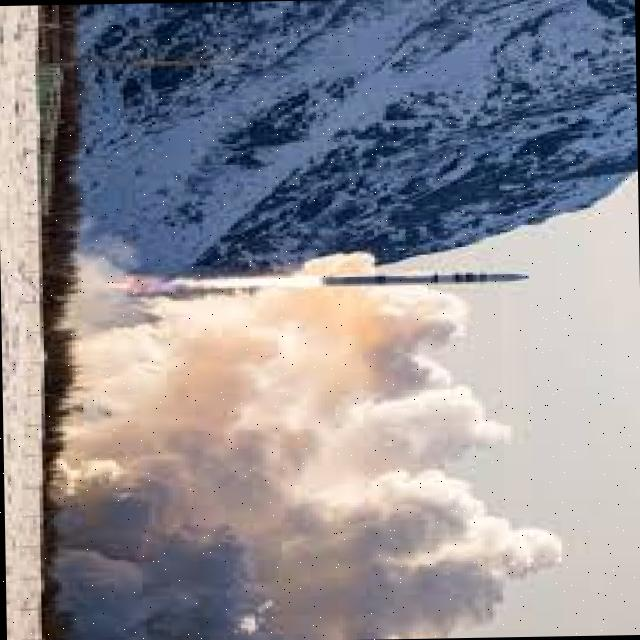explosion: (37, 274, 527, 640)
